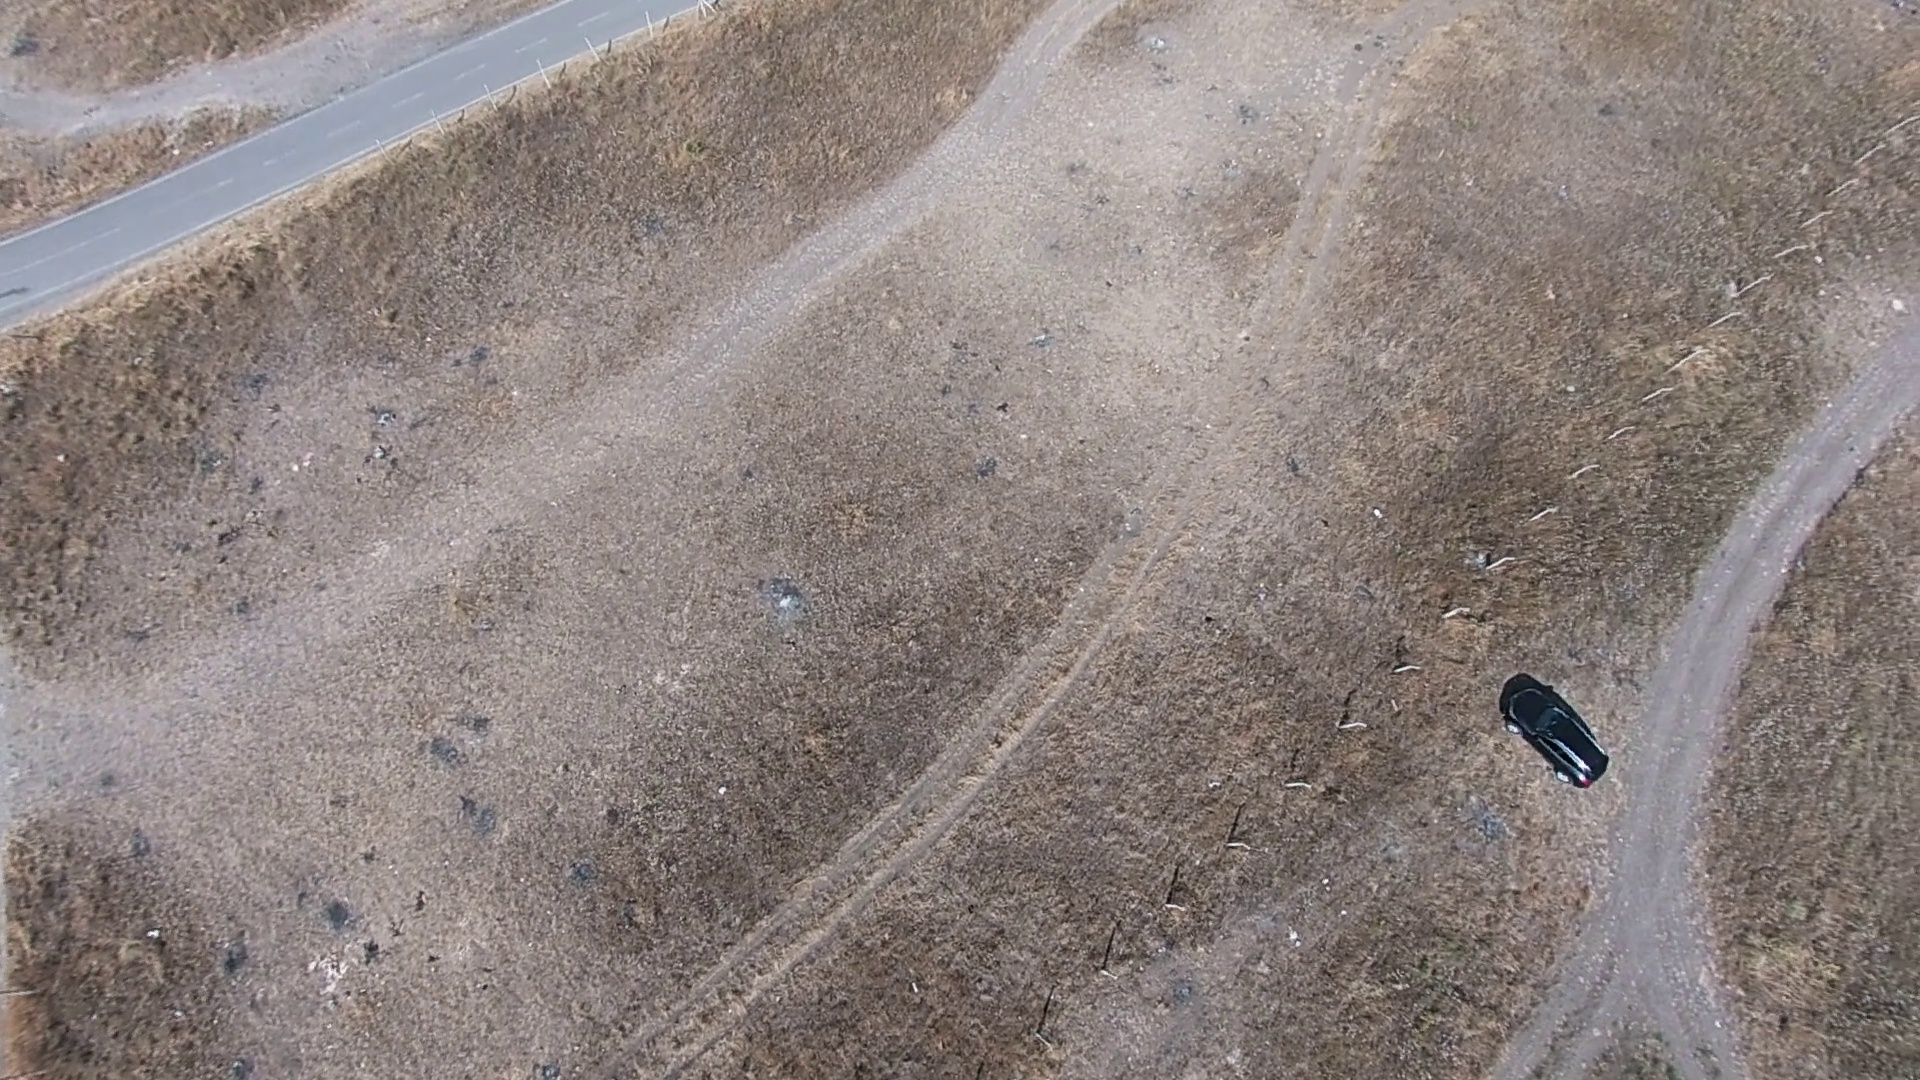araba: (1505, 680, 1607, 793)
